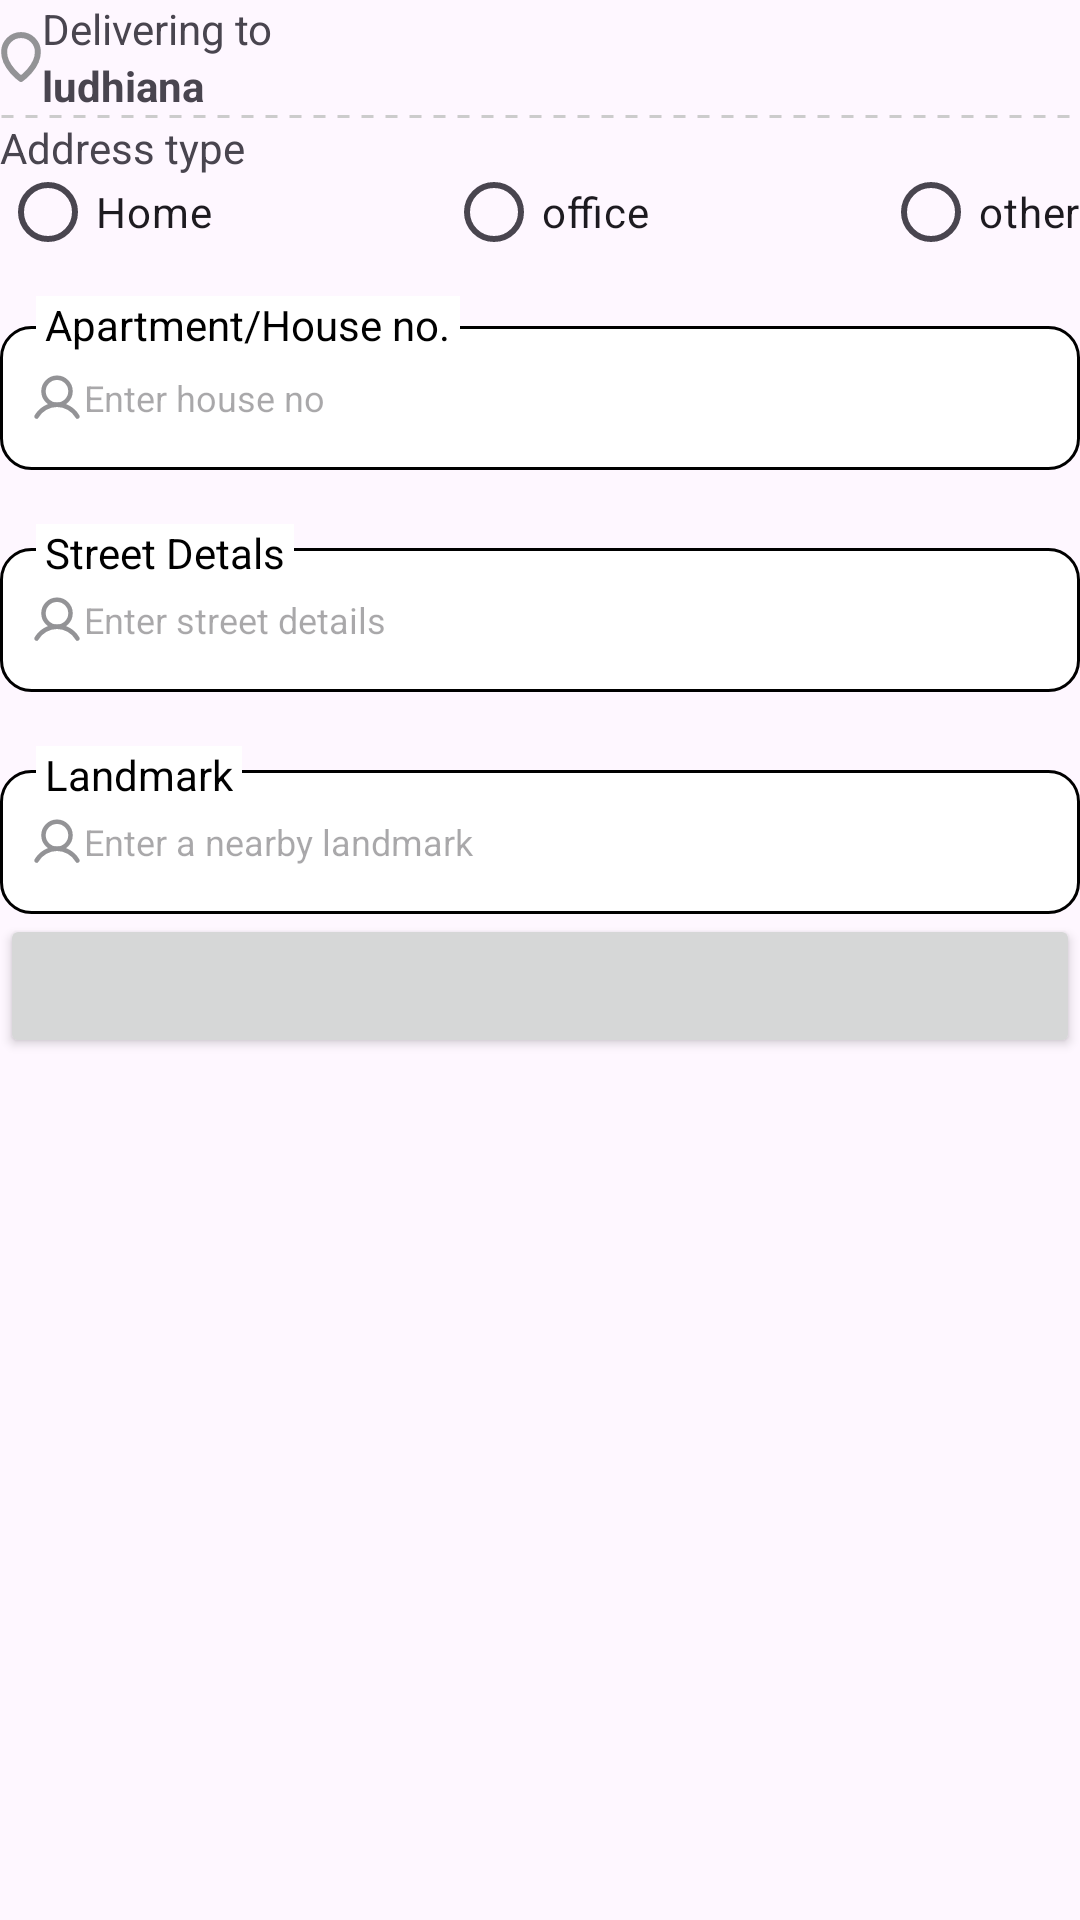

Icons on this 1080w x 1920h Android screen, each with its box as (x1, y1, x2, y2):
location: (1, 32, 41, 82)
